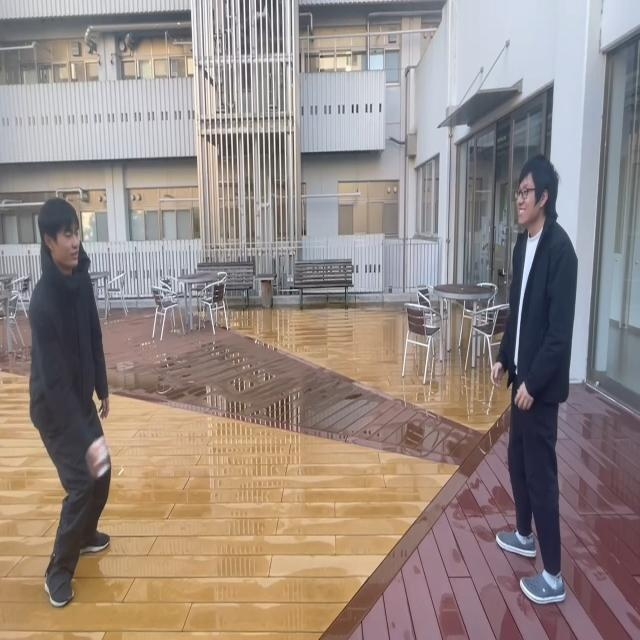bottle: (85, 435, 111, 480)
